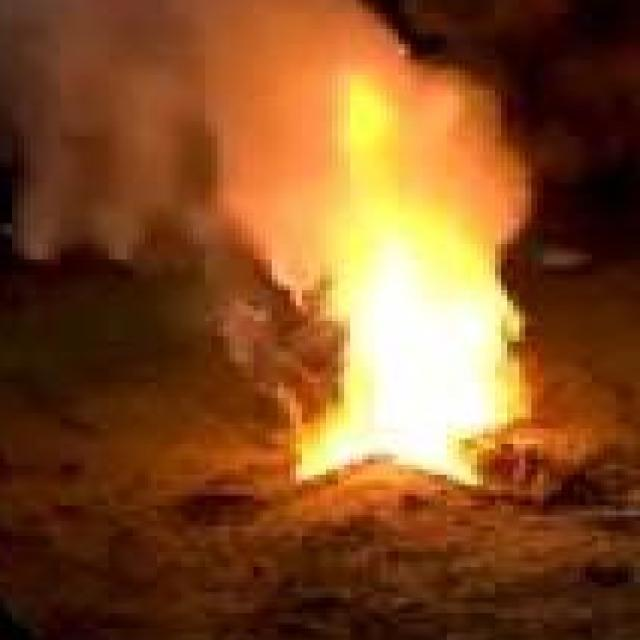Fire: (290, 79, 538, 488)
Smoke: (1, 0, 281, 263)
